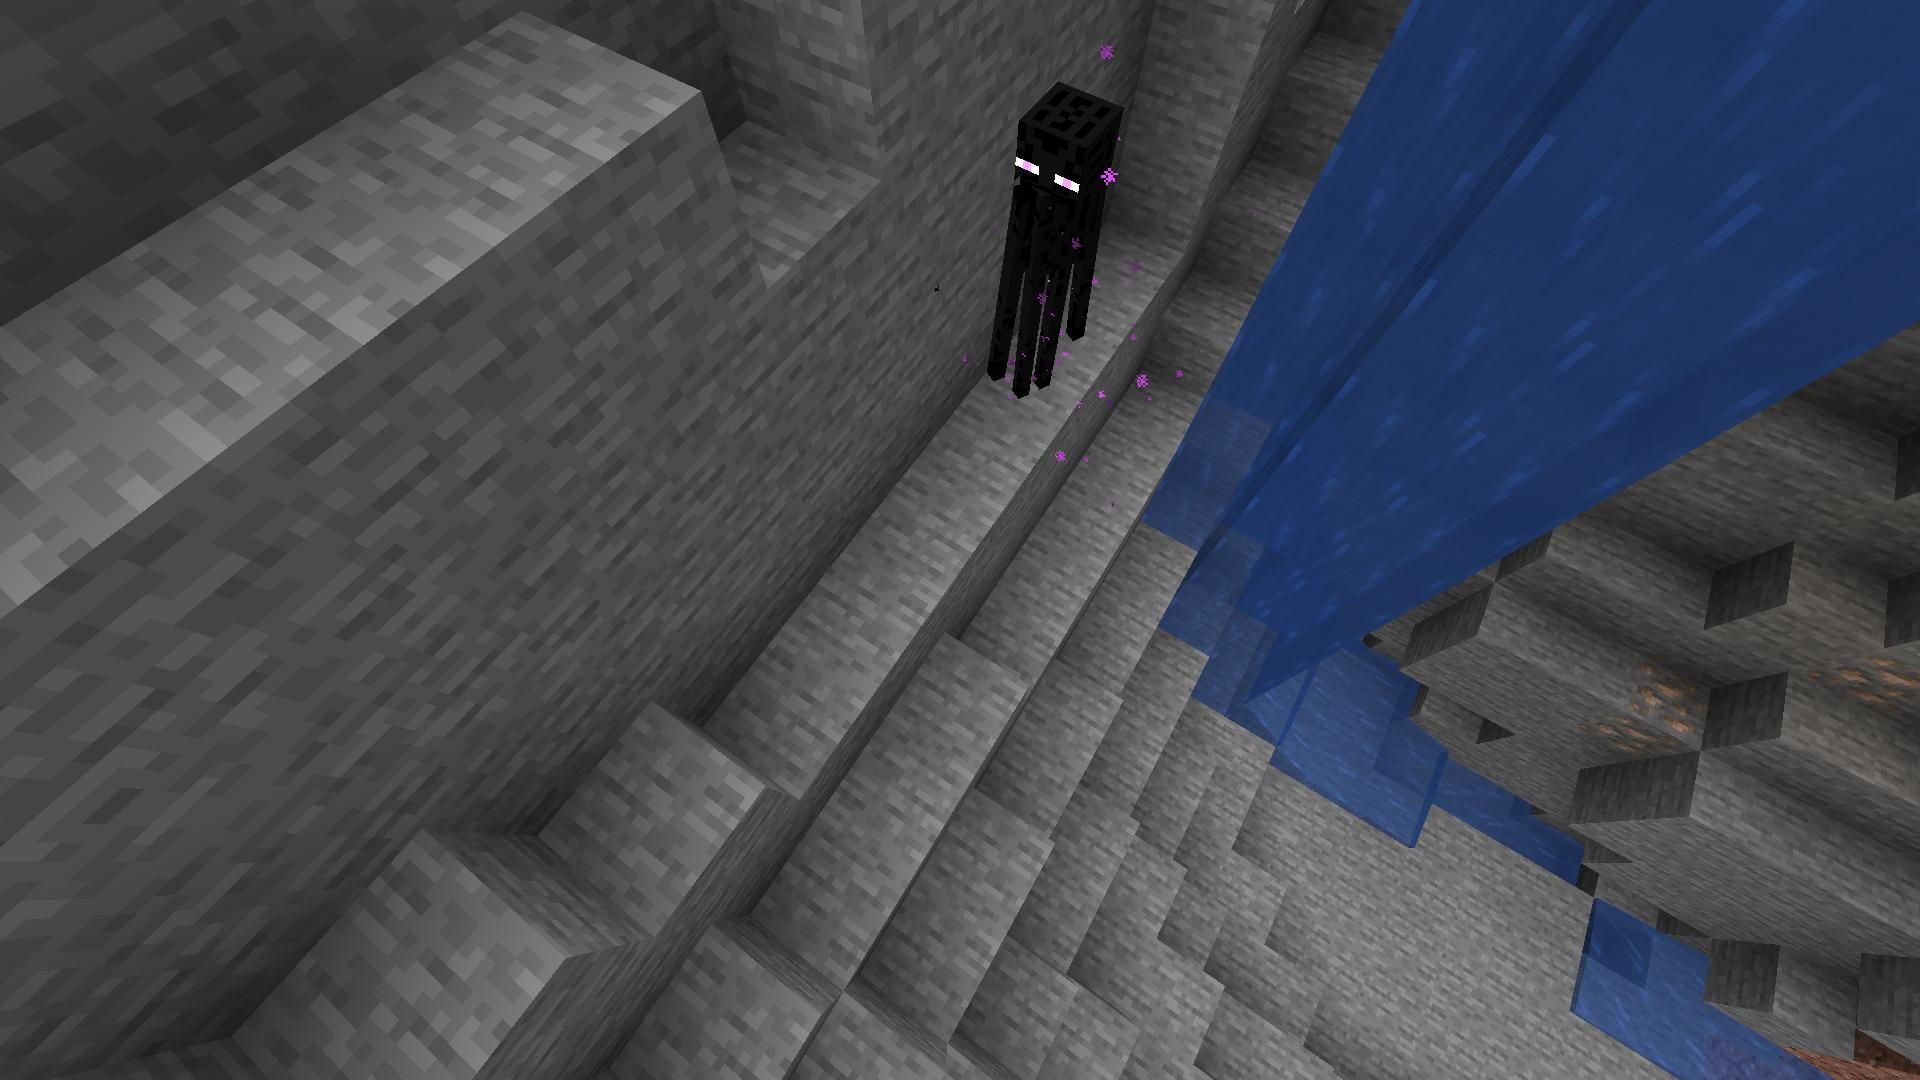enderman: (986, 80, 1126, 418)
